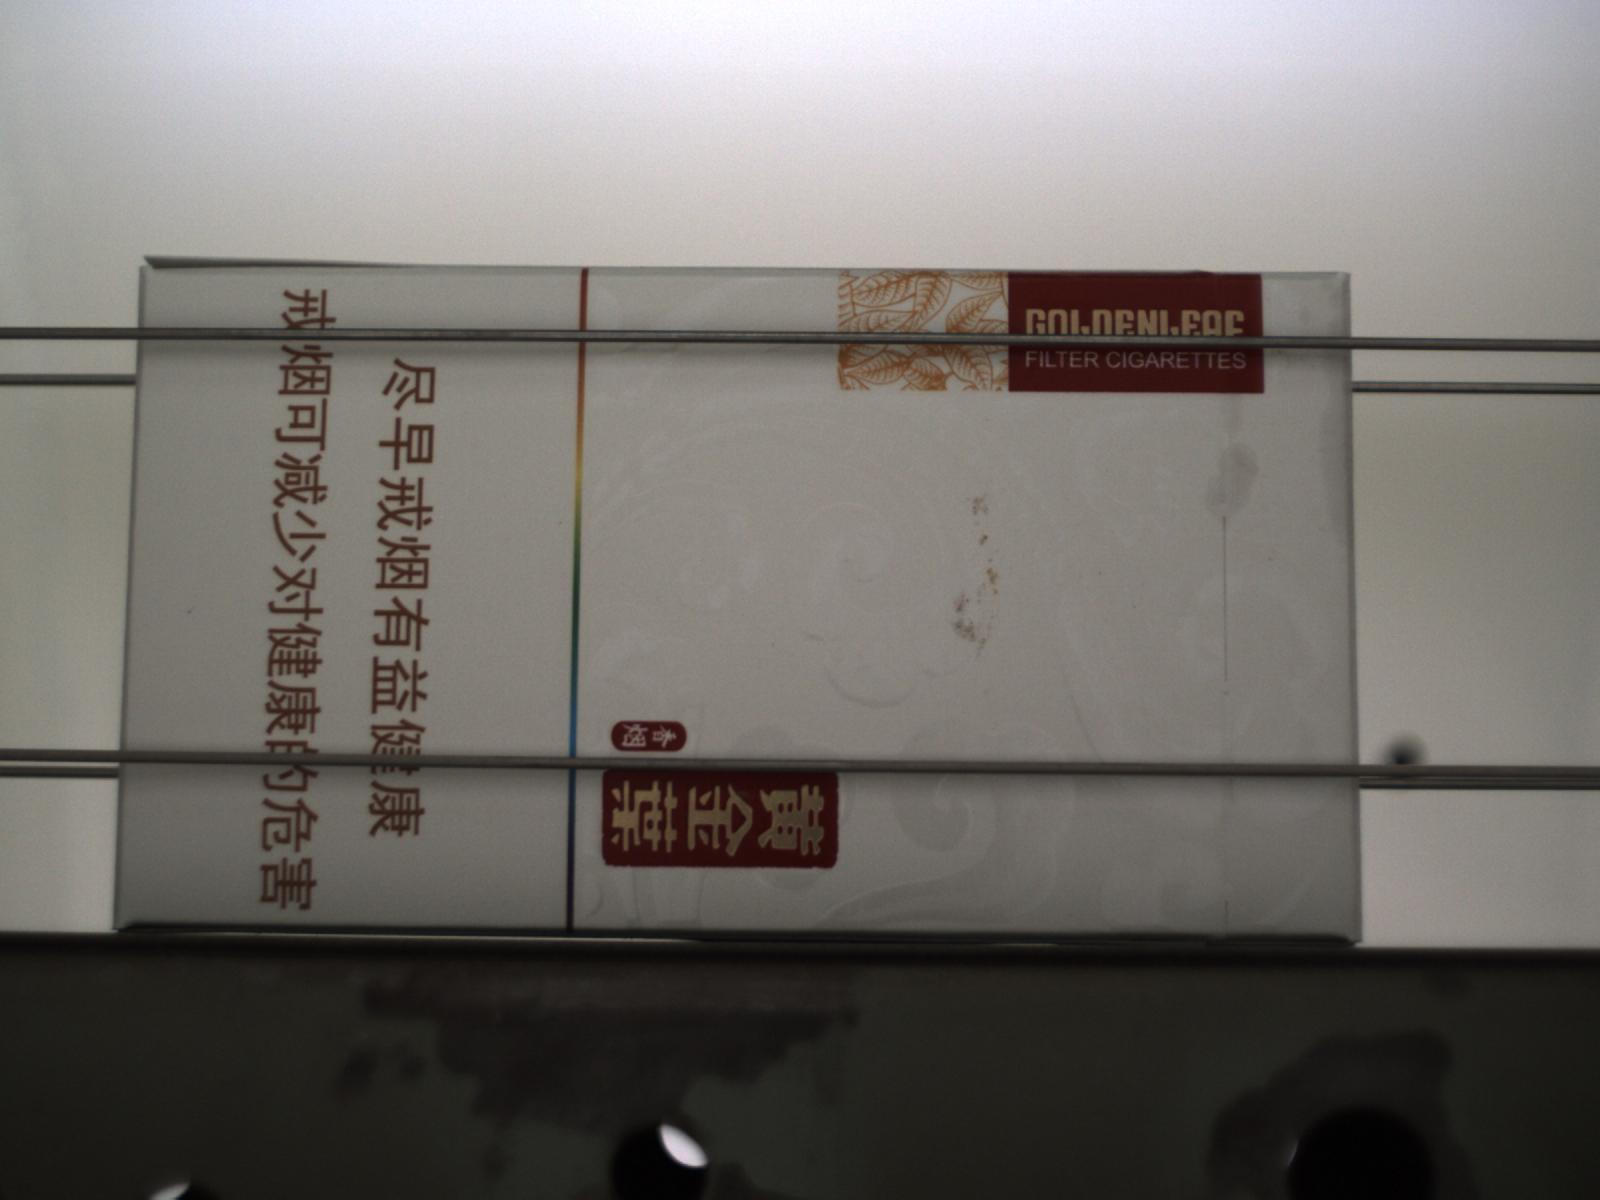areaOil: (1317, 350, 1356, 546), (1204, 442, 1260, 521)
bottomUpwarp_upper_1: (139, 252, 433, 272)
dirtySpot: (556, 519, 567, 528), (185, 608, 195, 616)
gumDirt: (950, 495, 1007, 659)
